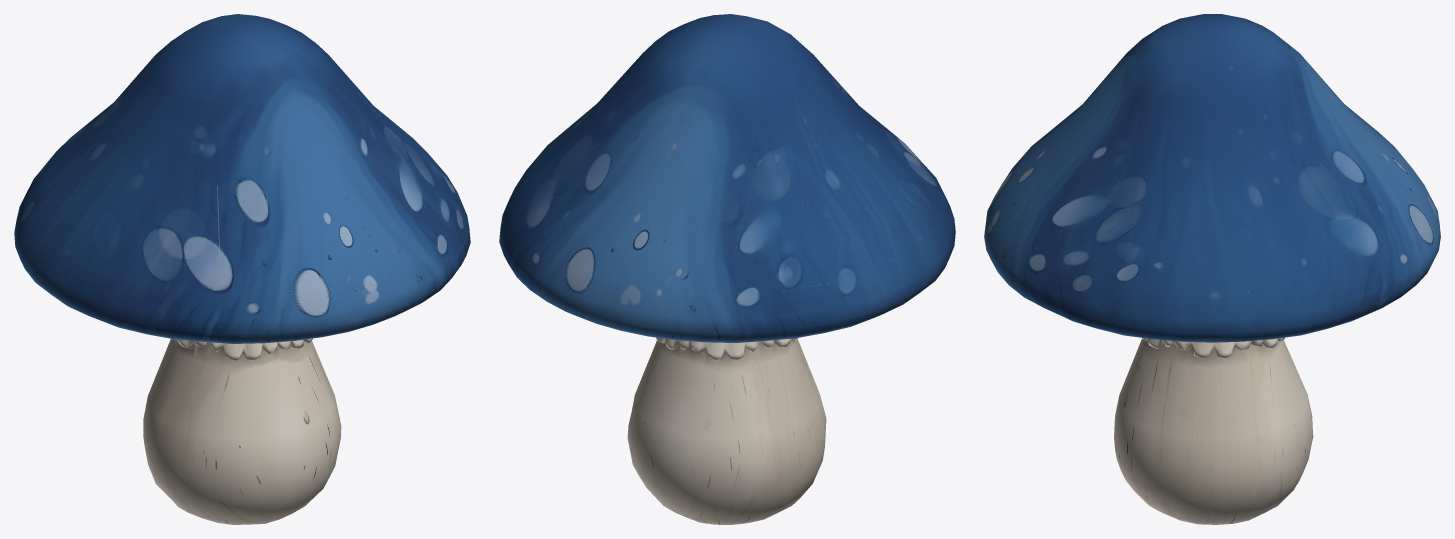
Rendered from Blue_mushroom.glb.
The picture shows the model from 3 angles, left to right: view 1: azimuth 30°, elevation 25°; view 2: azimuth 150°, elevation 25°; view 3: azimuth 270°, elevation 25°; orthographic projection.
Bounding box in the file's own units: 0.8091 × 0.9521 × 0.8091.
Materials: 1 (1 with a texture image).
